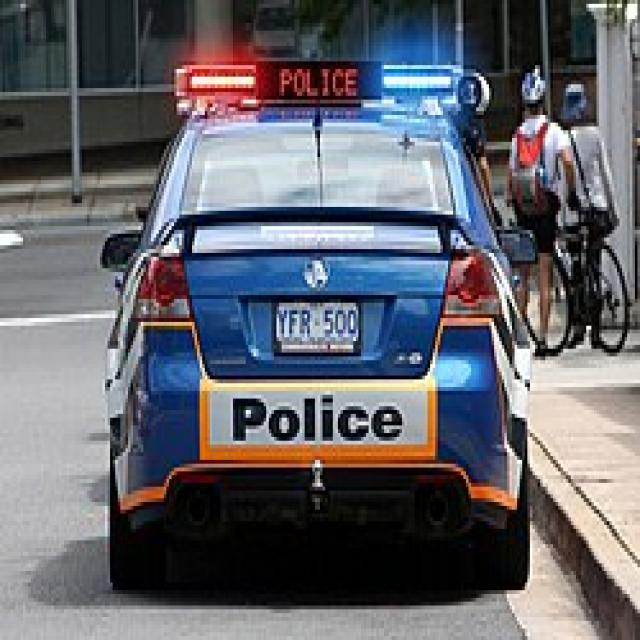emergency lights: (176, 42, 496, 175)
